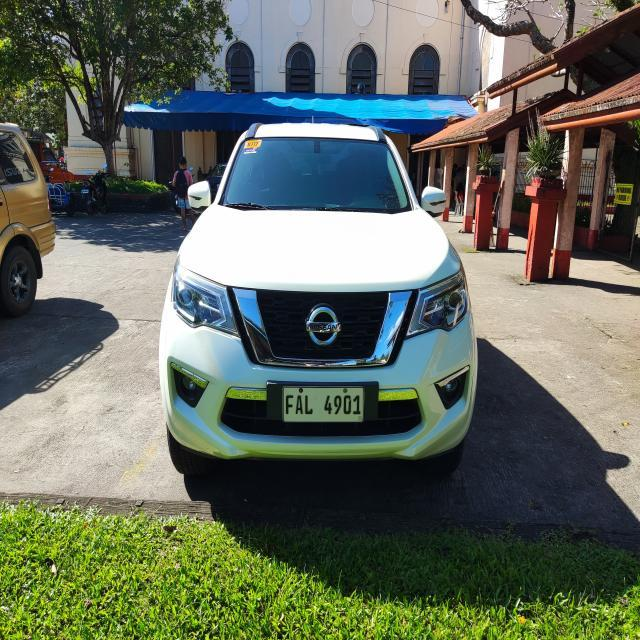LicensePlate: (279, 379, 370, 429)
